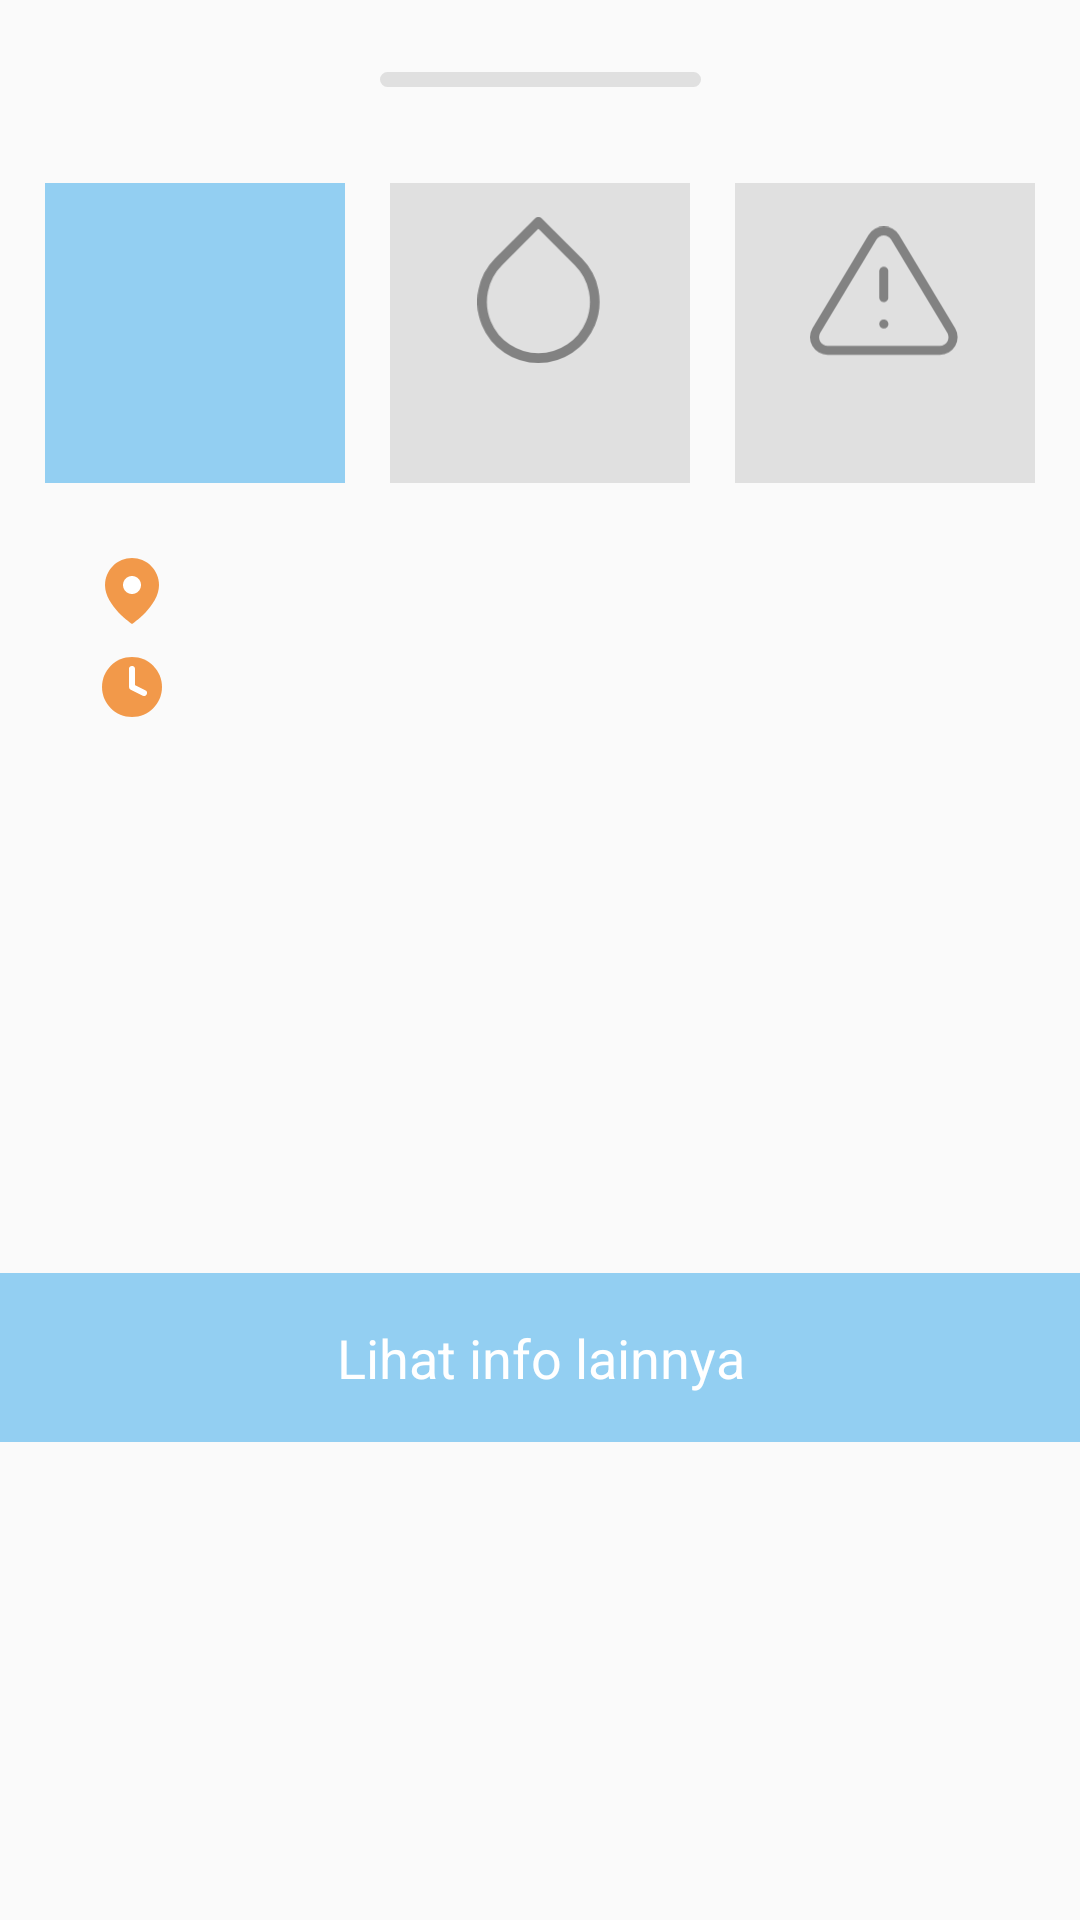

Locate icon controls on the screen. Image size 1080*1920, boxes as (x1, y1, x2, y2).
warning: (810, 226, 958, 355)
water: (477, 217, 600, 363)
